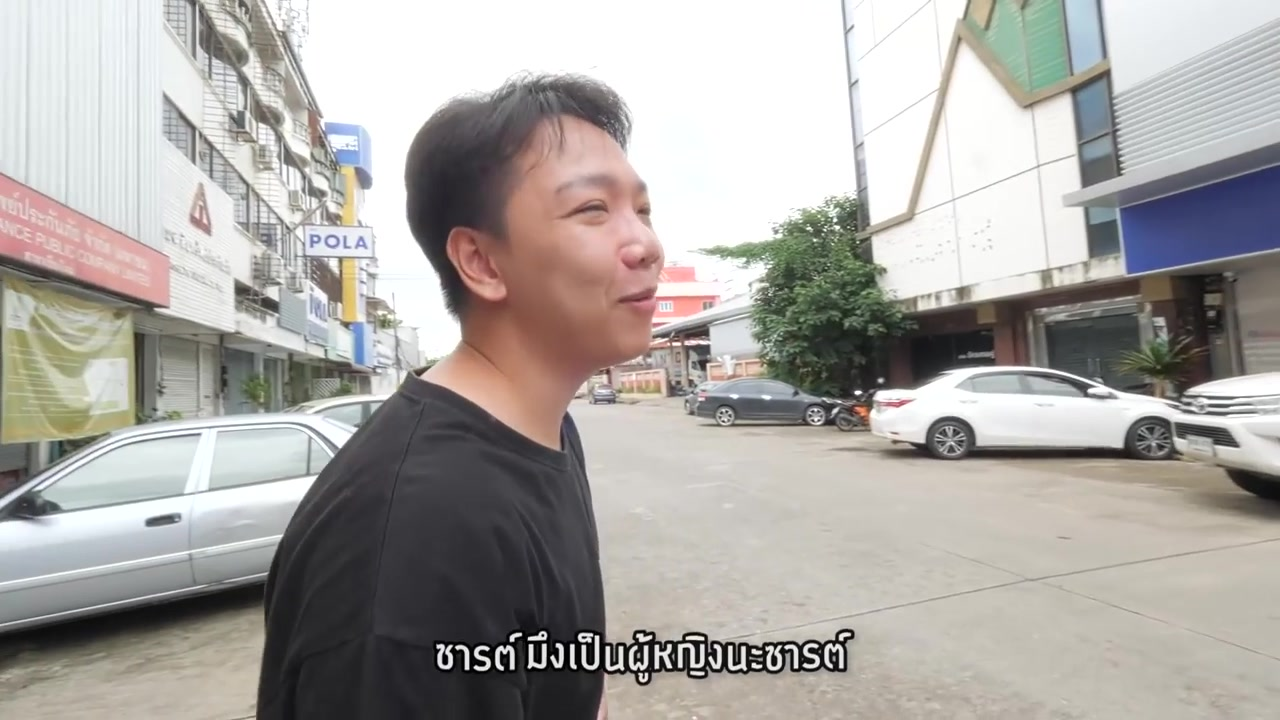text-label: (433, 627, 860, 686)
